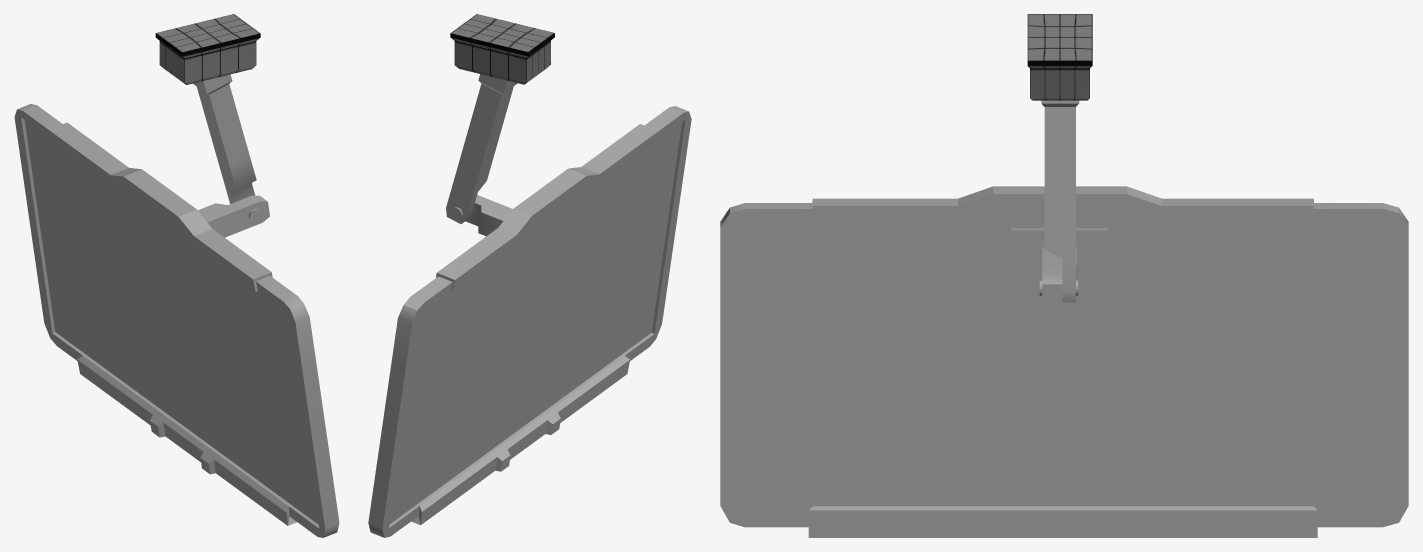
The model's file is mesh_screen_ceiling_v01.fbx.
The picture shows the model from 3 angles, left to right: view 1: azimuth 30°, elevation 25°; view 2: azimuth 150°, elevation 25°; view 3: azimuth 270°, elevation 25°; orthographic projection. The views are drawn at different scales.
Parts seen in each view (by area): view 1: pCube11, Ceiling_2x3, pCube12; view 2: pCube11, Ceiling_2x3, pCube12; view 3: pCube11, pCube12, Ceiling_2x3.
Boxes of the visible parts, bbox=[...] form: pCube11: bbox=[14, 104, 339, 537]; Ceiling_2x3: bbox=[155, 14, 260, 84]; pCube12: bbox=[193, 74, 256, 203]; pCube11: bbox=[368, 106, 691, 537]; Ceiling_2x3: bbox=[450, 14, 554, 84]; pCube12: bbox=[446, 74, 517, 223]; pCube11: bbox=[720, 186, 1408, 537]; pCube12: bbox=[1041, 100, 1079, 302]; Ceiling_2x3: bbox=[1027, 14, 1092, 100].
Size of the model in its own units: 1.33 by 4.69 by 5.79.
